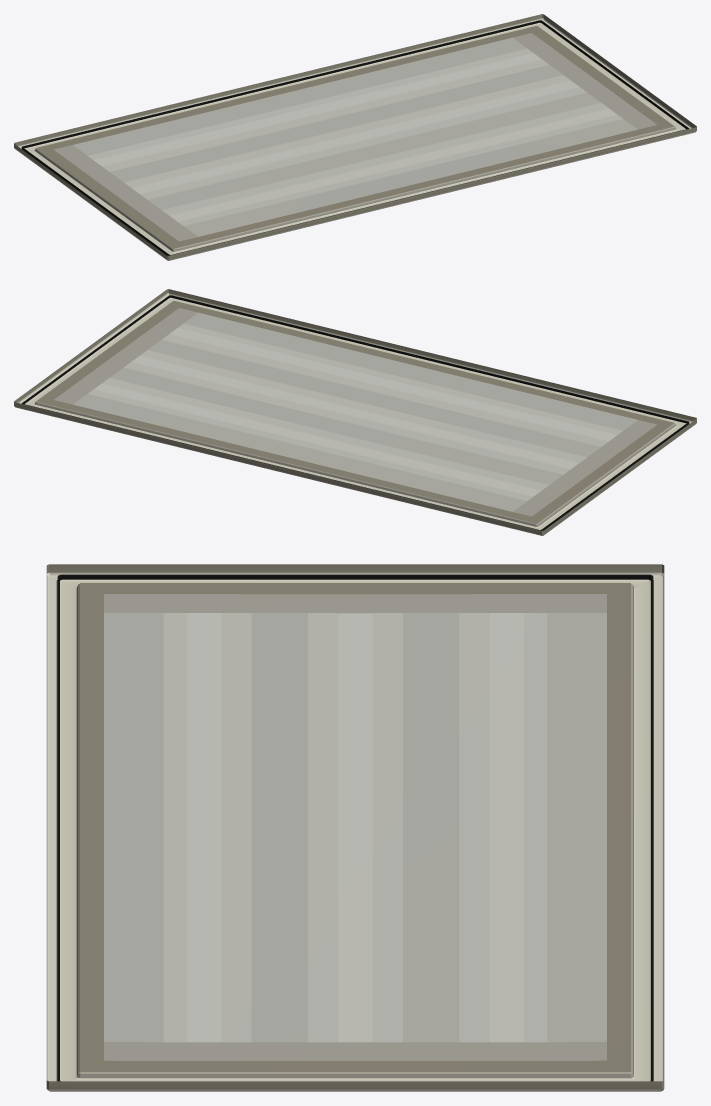
Rendered from troffer_off.glb.
The picture shows the model from 3 angles, top to bottom: view 1: azimuth 30°, elevation 25°; view 2: azimuth 150°, elevation 25°; view 3: azimuth 270°, elevation 25°; orthographic projection. The views are drawn at different scales.
Parts seen in each view (by area): view 1: rasterleuchte; view 2: rasterleuchte; view 3: rasterleuchte.
Boxes of the visible parts, x1=… form: rasterleuchte: x1=14, y1=14, x2=696, y2=260; rasterleuchte: x1=14, y1=289, x2=696, y2=535; rasterleuchte: x1=46, y1=564, x2=664, y2=1091.
Bounding box in the file's own units: 1.21 × 0.0122 × 0.612.
